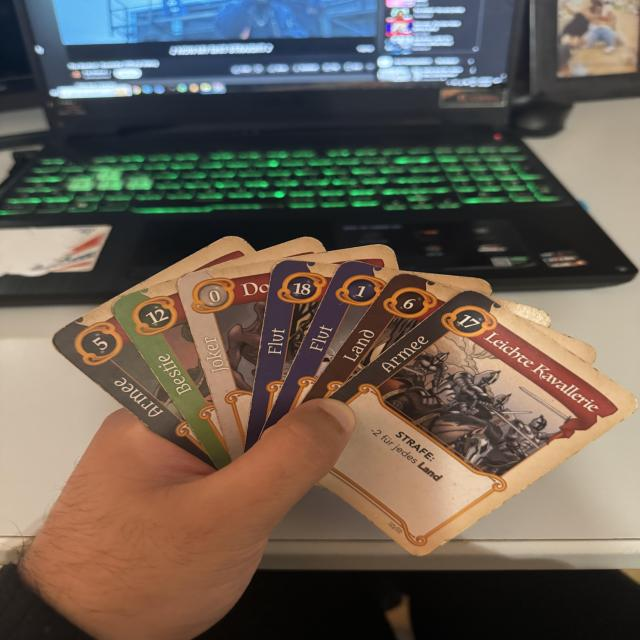Doppelganger: (175, 258, 275, 462)
Fountain Of Life: (261, 259, 398, 432)
Hydra: (108, 279, 232, 475)
Light Cavalry: (320, 288, 640, 562)
Rangers: (47, 303, 215, 469)
Swamp: (245, 259, 340, 449)
Underground Caverns: (304, 270, 461, 399)
